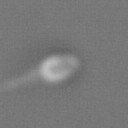normal: (1, 66, 39, 99)
